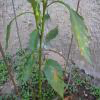Bell_pepper leaf spot: (68, 5, 93, 64), (43, 58, 64, 99), (23, 53, 35, 87), (4, 20, 13, 53), (45, 24, 59, 44)
